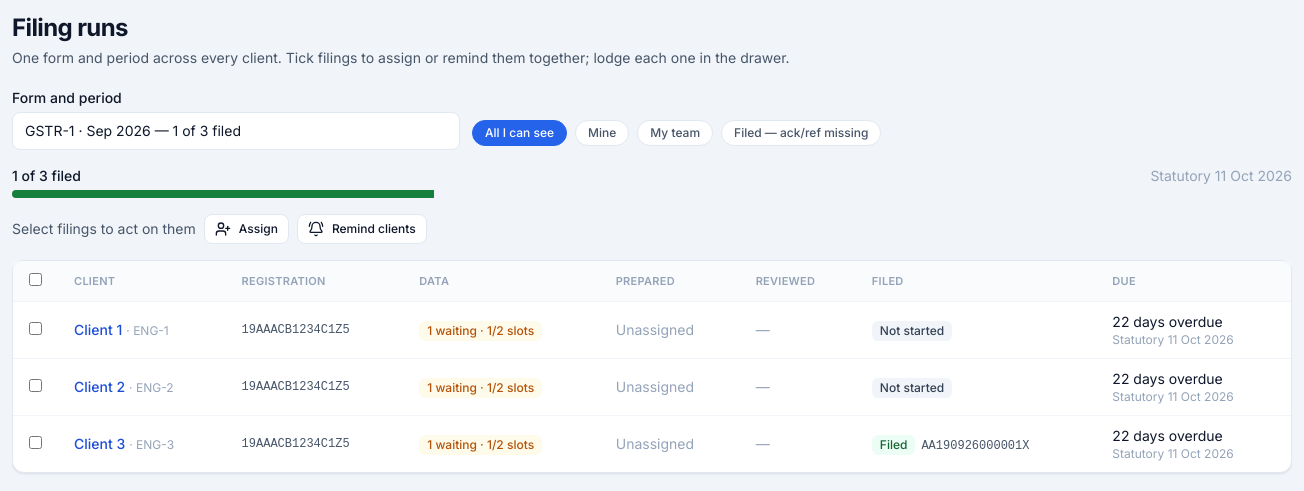
Scenario: Filing runs page › offers Assign only for filings the caller leads
Expected: the link "Client 1" is shown, [74,321,122,338]
Click the checkbox named "Select Client 2".
click(36, 386)  # box [29,379,42,392]
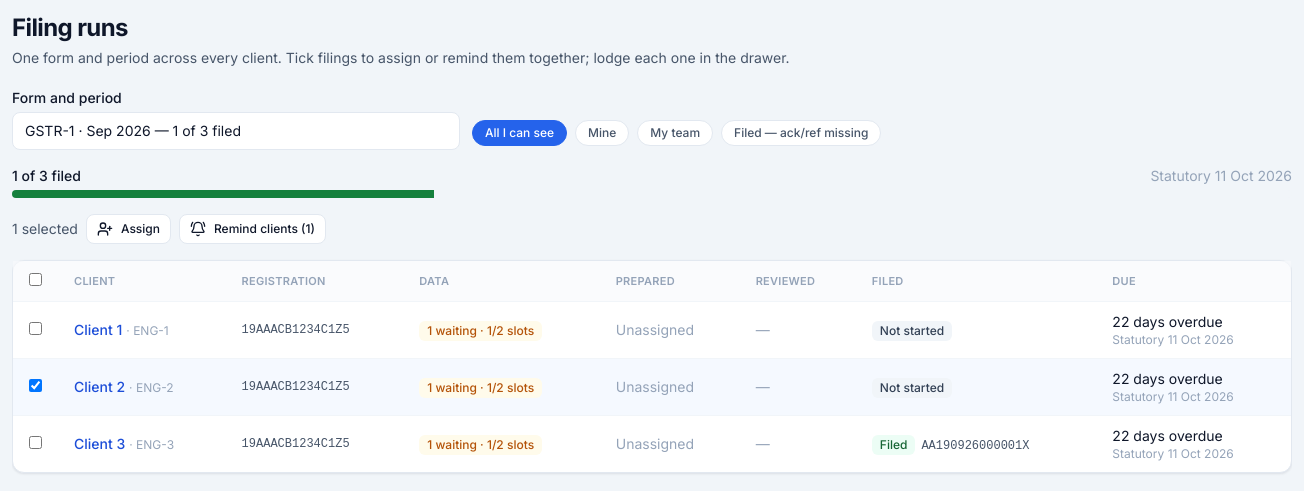
Expected: the button "Assign" is disabled, [86,214,171,244]
Click the checkbox named "Select Client 1".
click(36, 328)  # box [29,322,42,335]
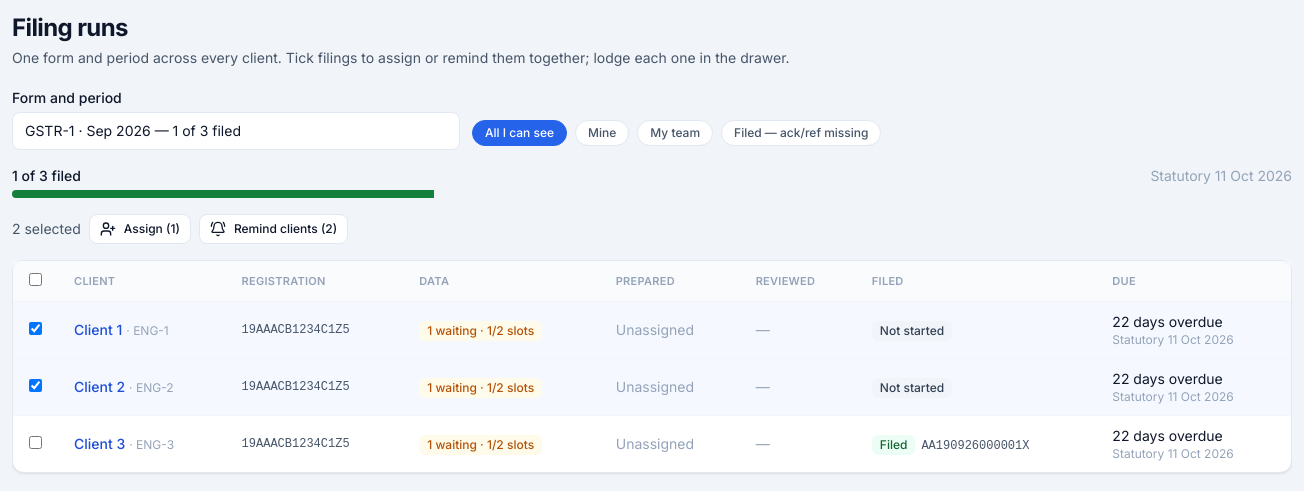
Expected: the button "Assign (1)" is enabled, [89,214,191,244]
